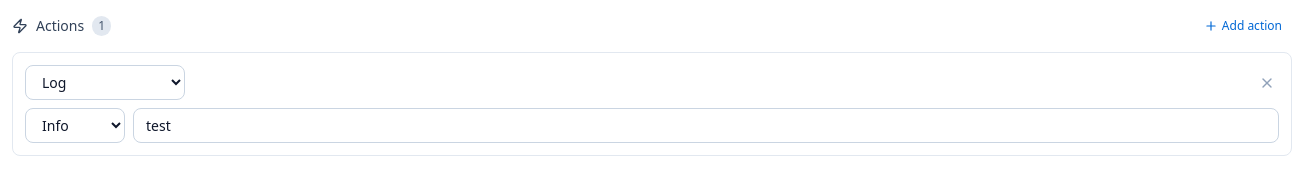
Test case: ActionBuilder › removing actions › removes a row when remove button is clicked
Click the button titled "Remove action". click: (1267, 82)
box: [1255,70,1279,94]
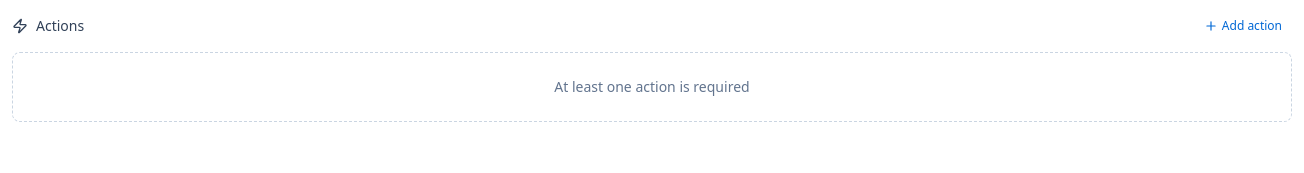
Expected: the text "At least one action is required" is shown, [12,52,1292,122]
